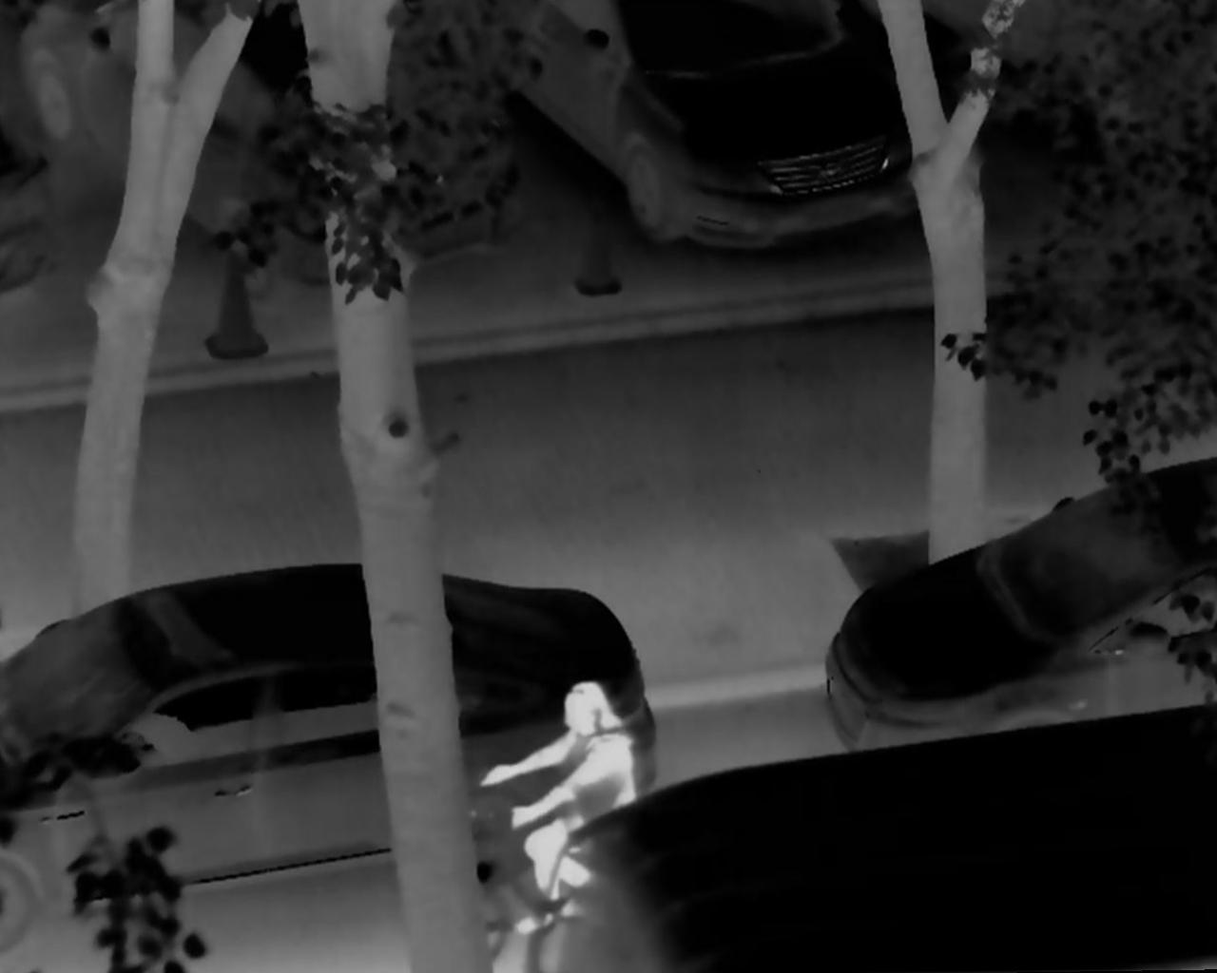person: (473, 666, 636, 939)
